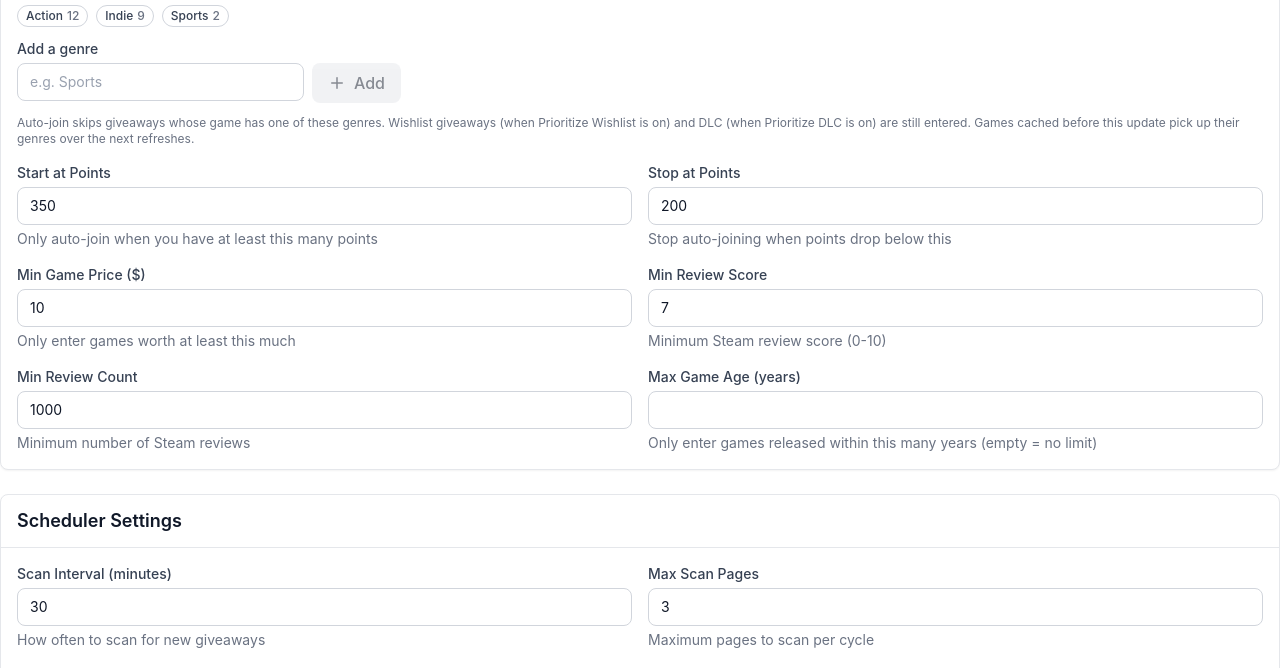
Settings page: excluded genres review findings › lets the user save again after clearing an unconfirmed genre
(page scrolled)
Replace the text in the number field labelled "Min Game Price ($)" with "20": {"x": 324, "y": 308} x1=17 y1=289 x2=632 y2=327
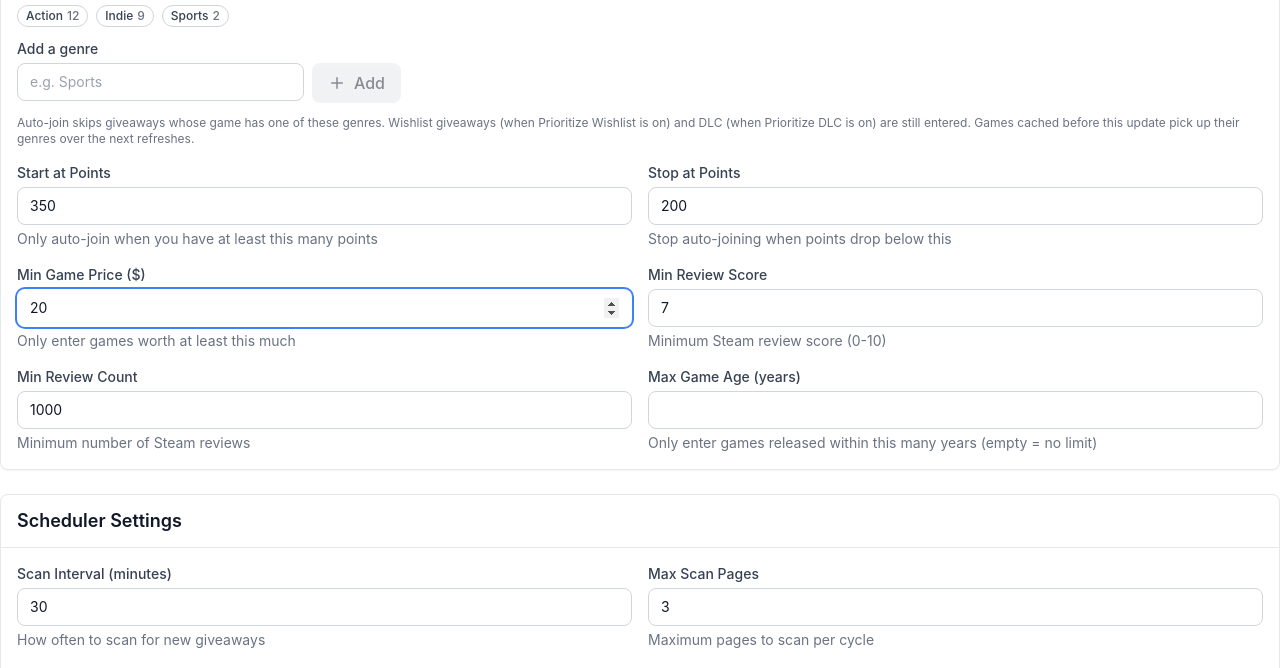
In the field labelled "Add a genre": {"x": 160, "y": 82} x1=17 y1=63 x2=304 y2=101, type "Sports"
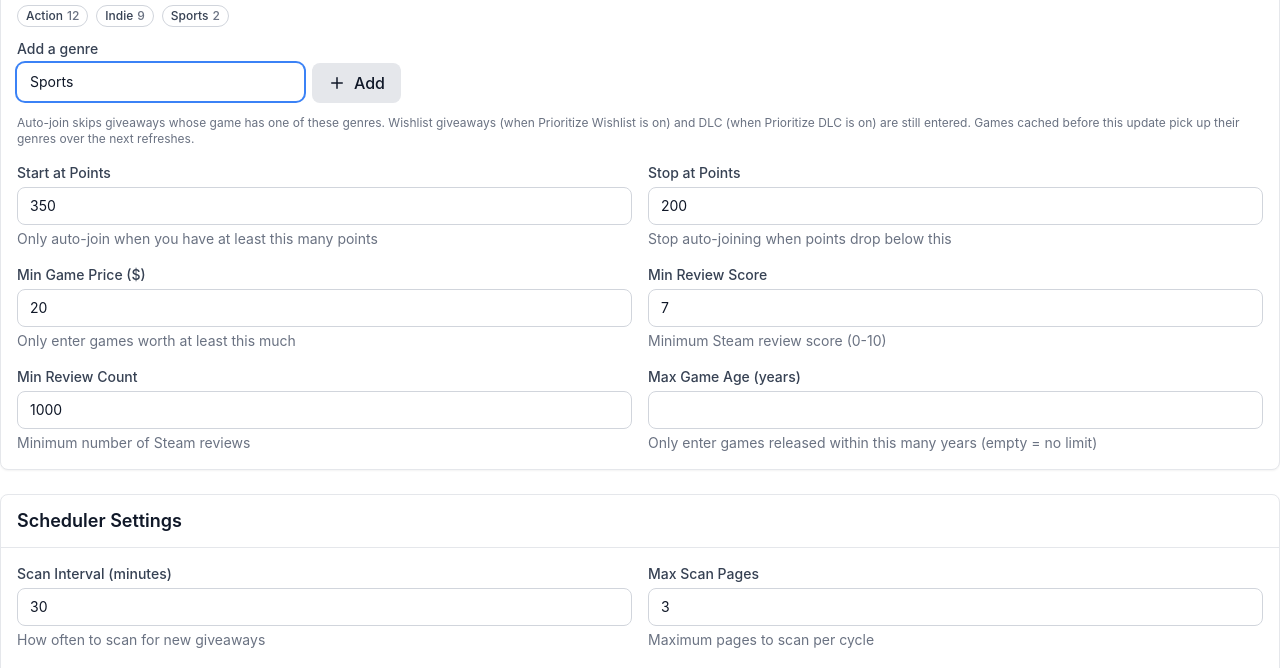
Clear the field labelled "Add a genre": {"x": 160, "y": 82} x1=17 y1=63 x2=304 y2=101
(page scrolled)
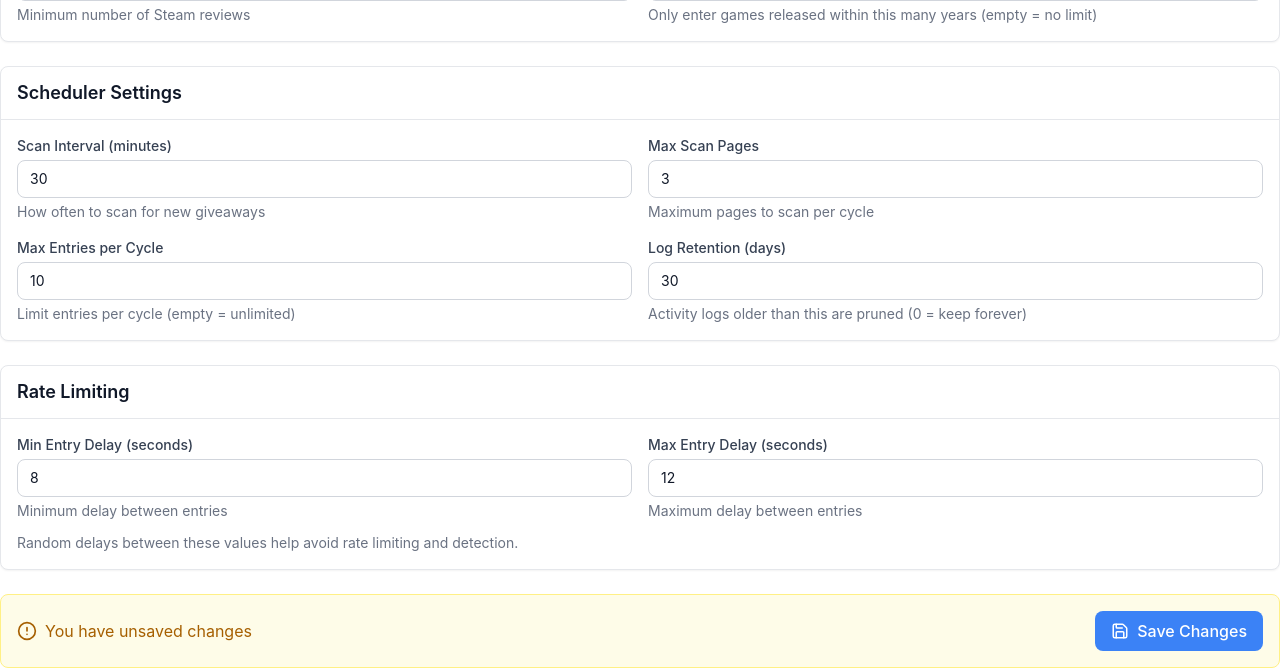
expect the text "You have unsaved changes" is shown: met, box x1=45 y1=619 x2=252 y2=643
